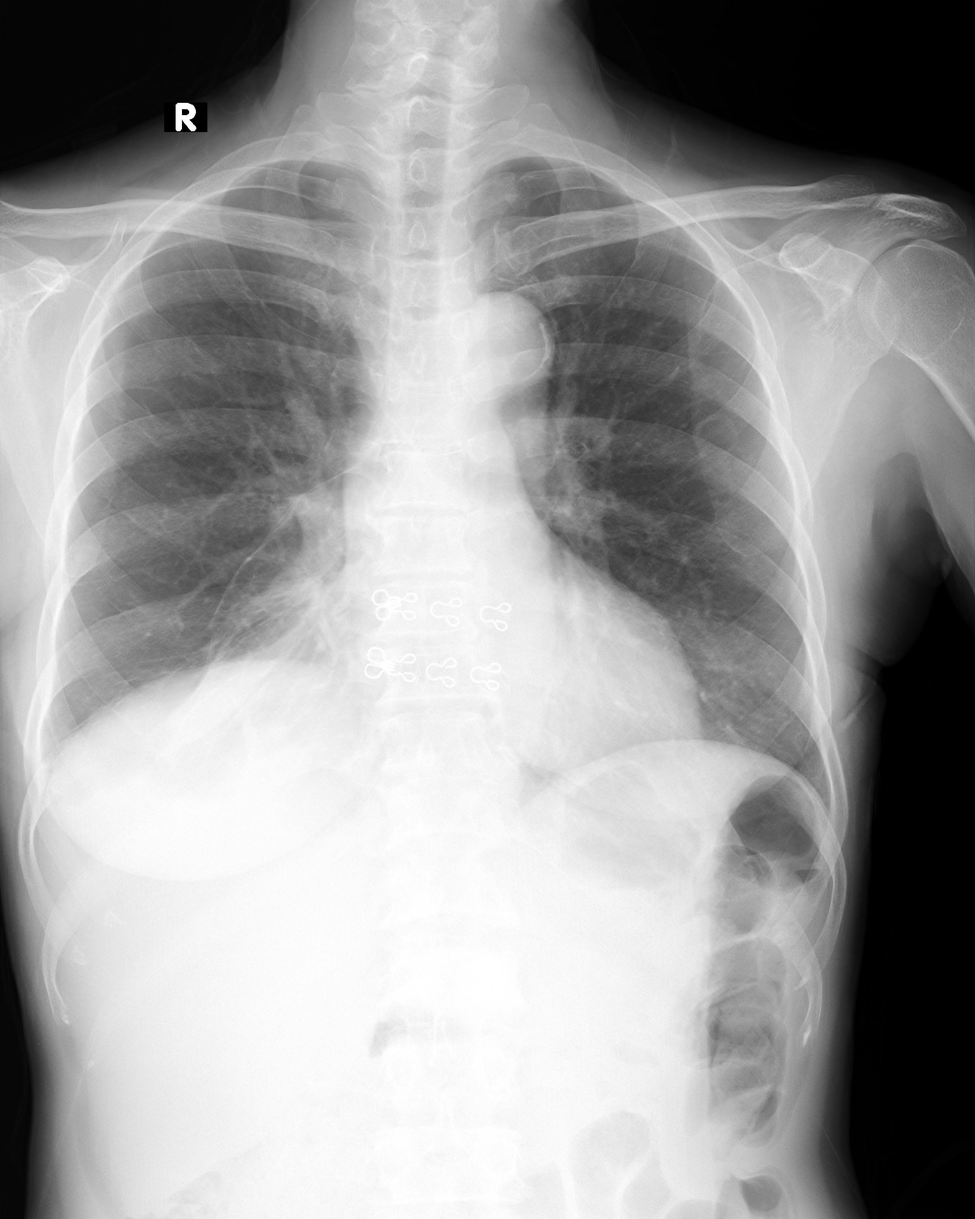Aortic enlargement: (440, 298, 551, 428)
